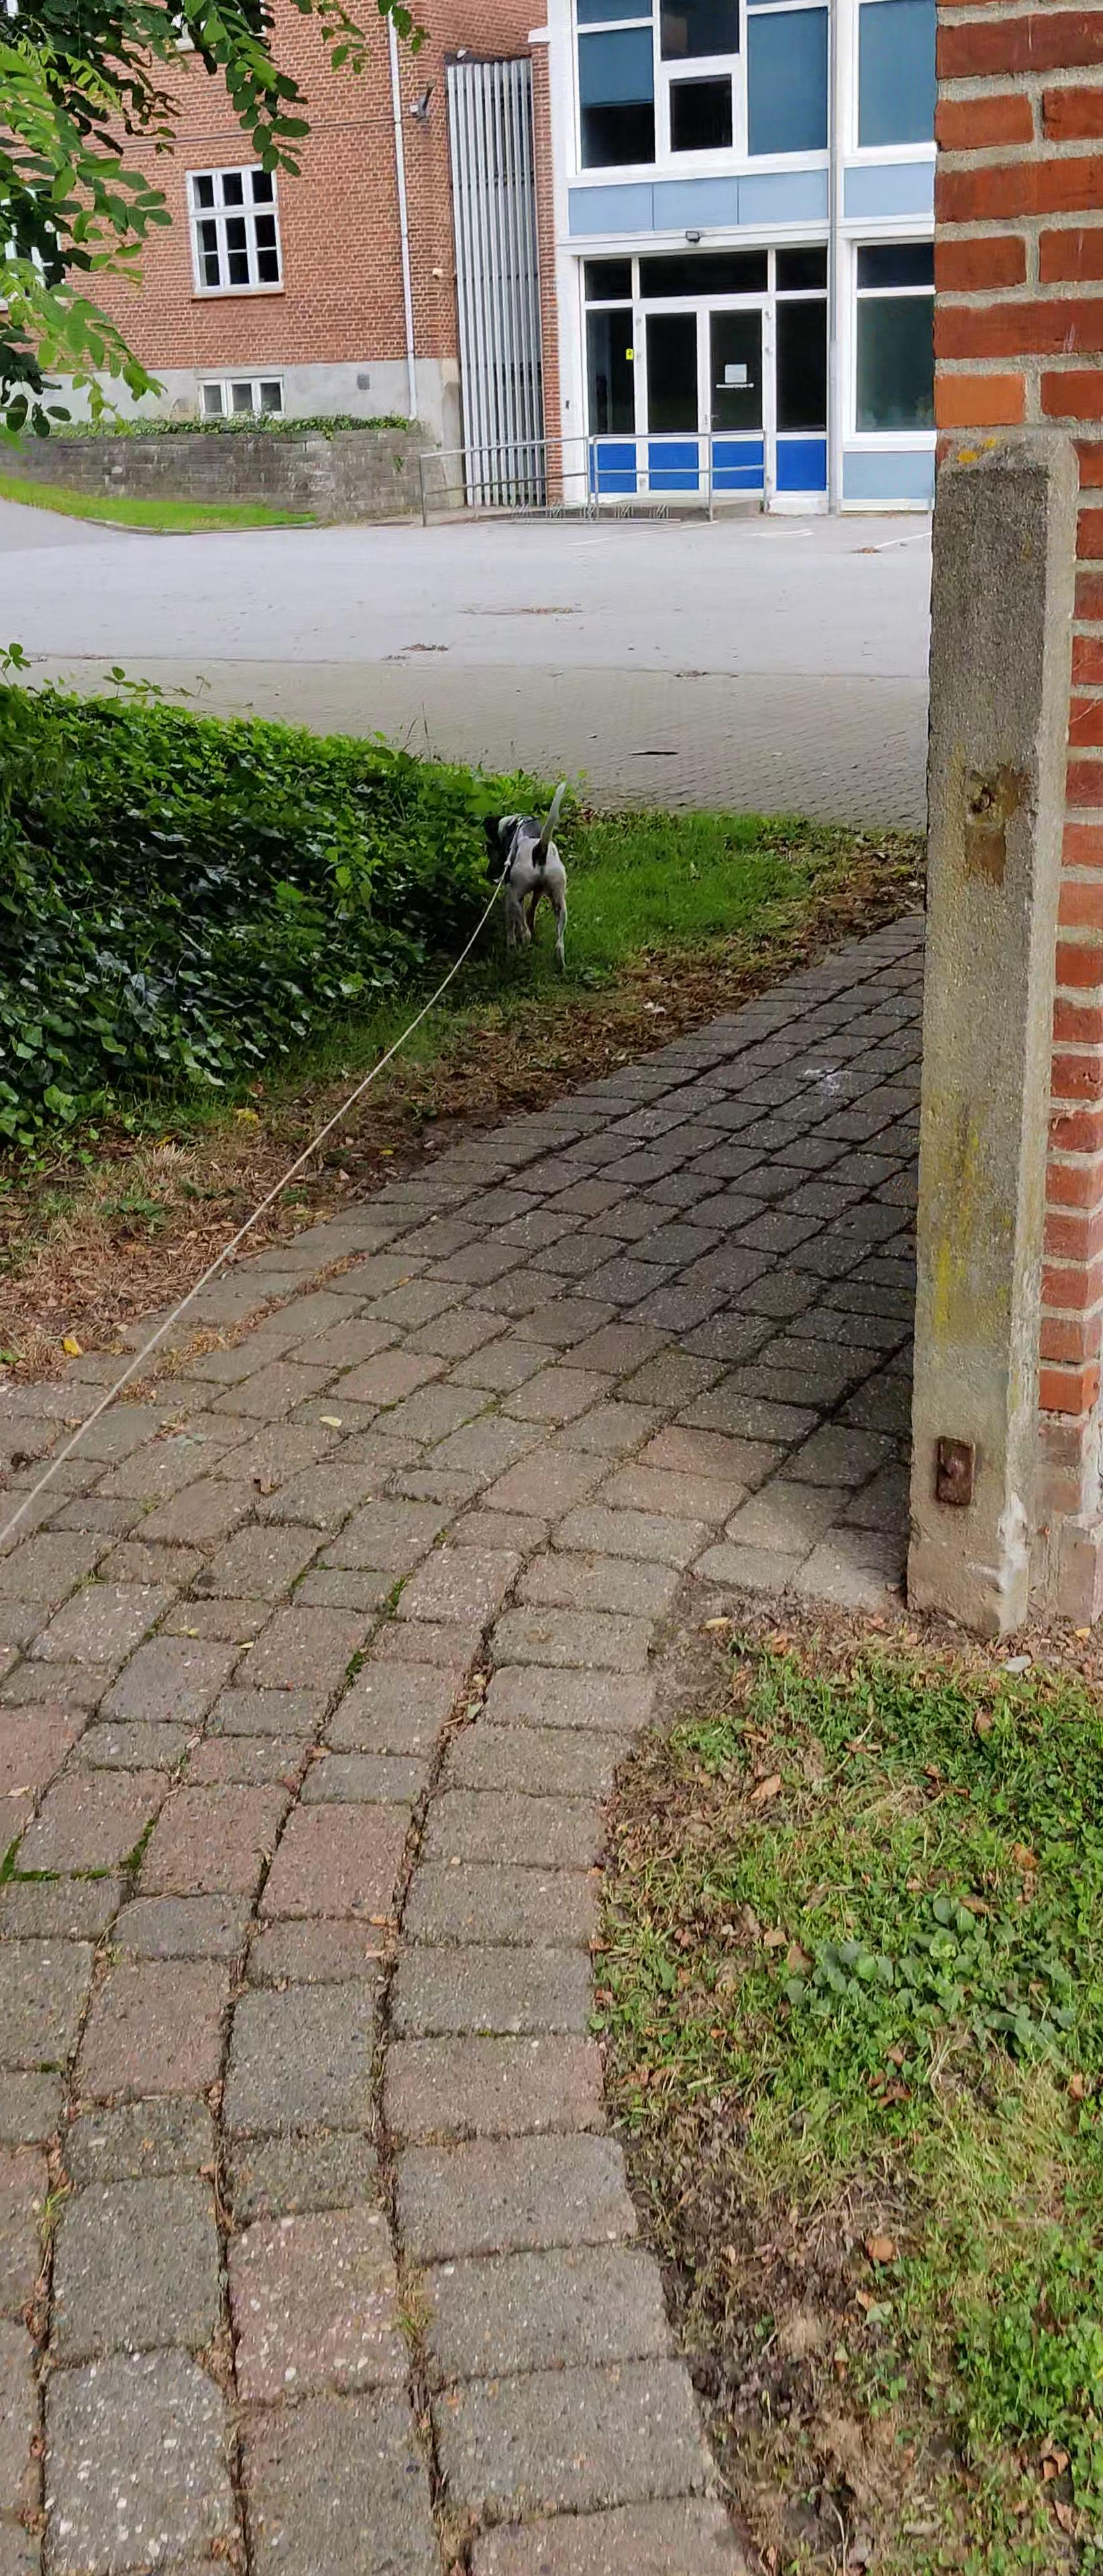Dog: (472, 757, 582, 984)
